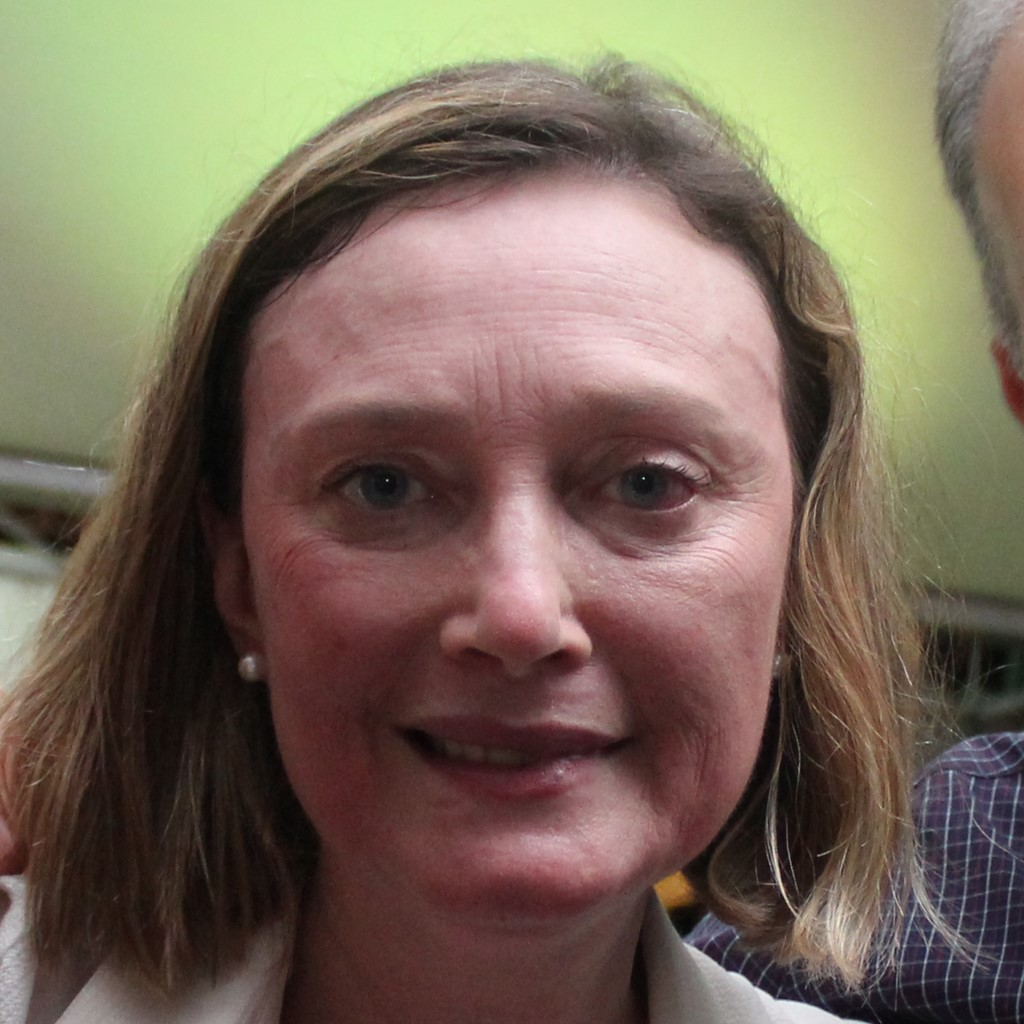sin_mascara: (225, 108, 813, 928)
